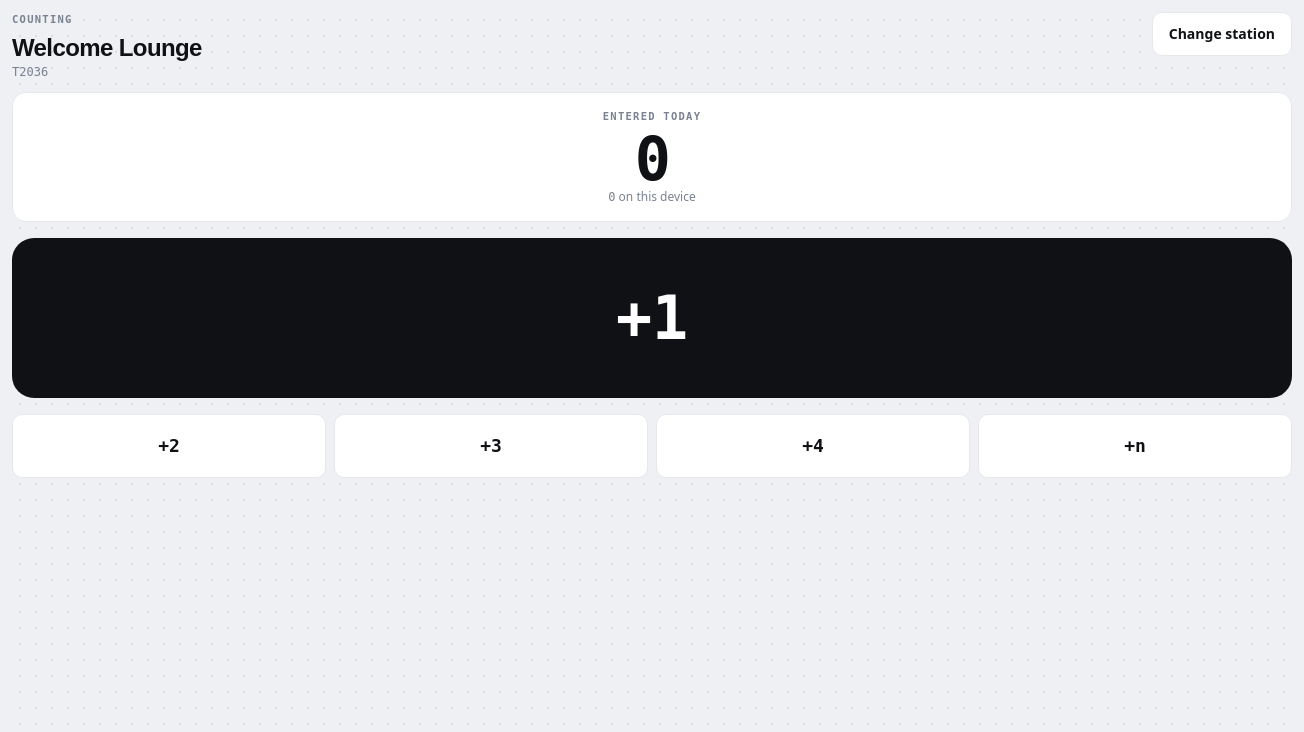
Scenario: Footfall screens › Undo removes a +n tap as one record
Expected: the text with test id "station-total" reads "0", [635,124,669,194]
Click the button named "Add 4 people".
click(813, 446)  # box [656,414,970,478]
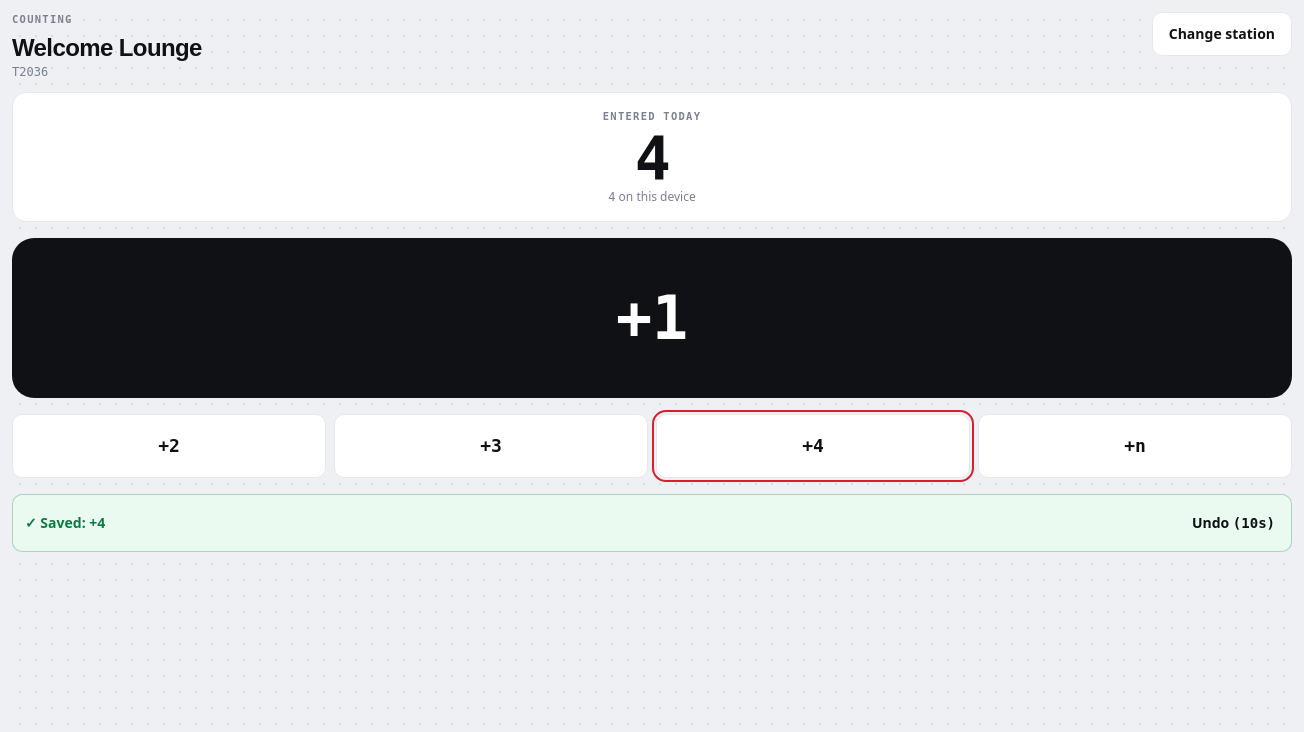
Expected: the text "✓ Saved: +4" is shown, [25,512,105,532]
Click the button "Undo (10s)".
click(1233, 522)  # box [1176,494,1291,550]
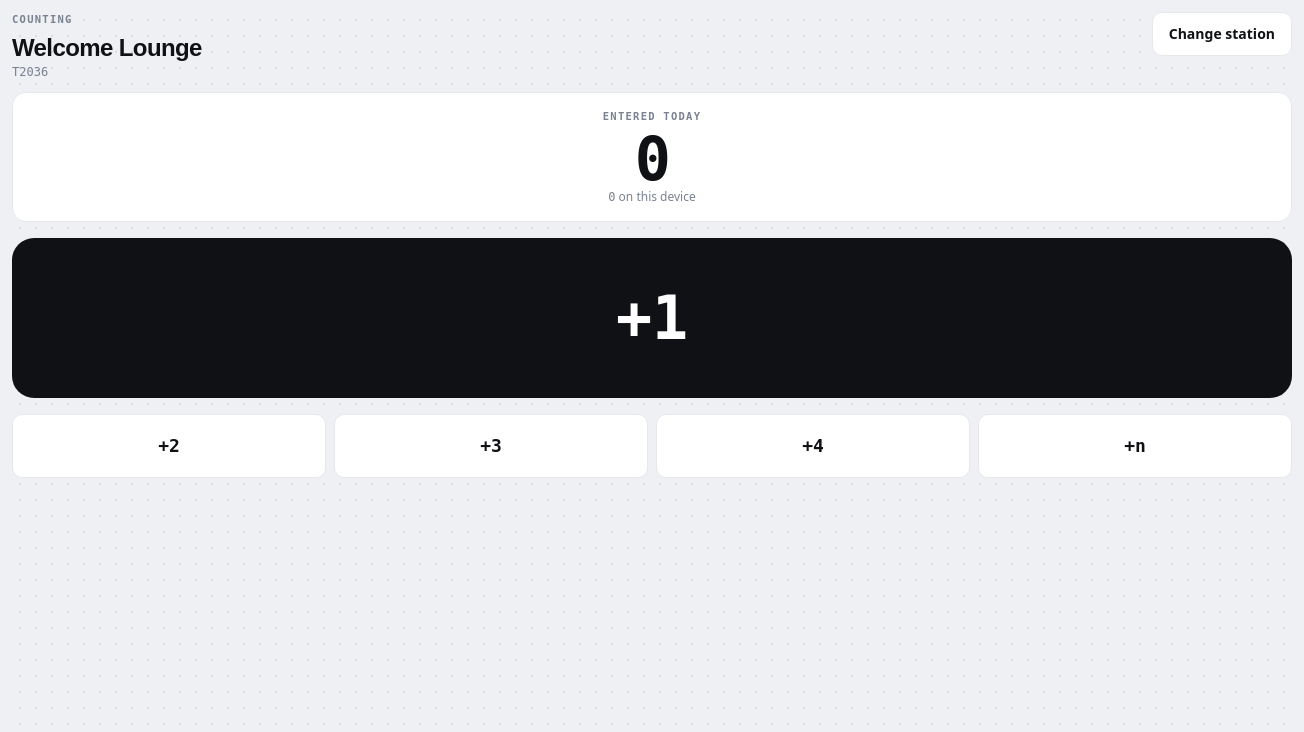
Expected: the text with test id "station-total" reads "0", [635,124,669,194]
